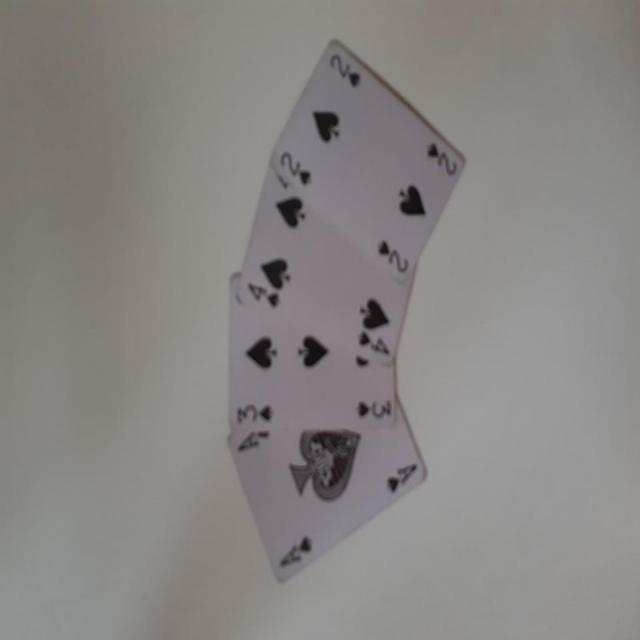2 Spades: (272, 32, 469, 282)
3 Spades: (218, 317, 401, 432)
4 Spades: (235, 197, 414, 359)
A Spades: (227, 434, 433, 572)
